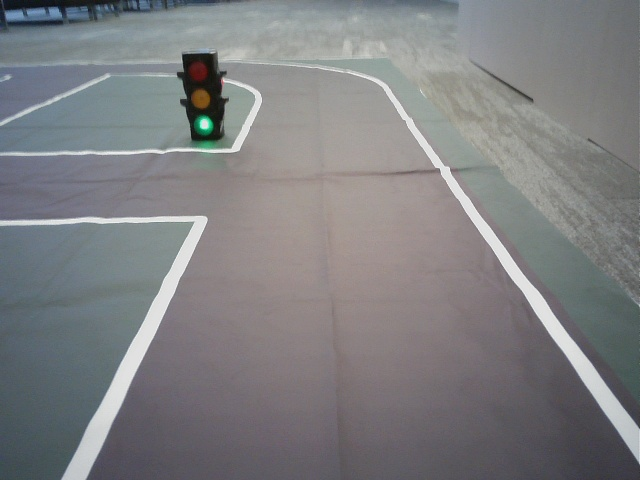green: (183, 56, 216, 134)
